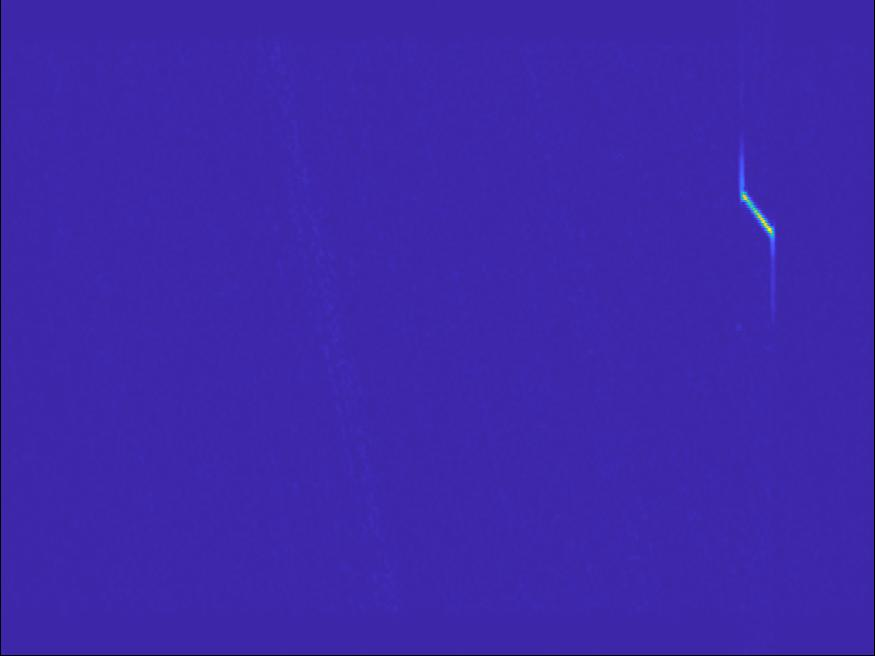Interference: (49, 525, 226, 656), (292, 291, 433, 366), (480, 83, 587, 130), (179, 1, 252, 29)
